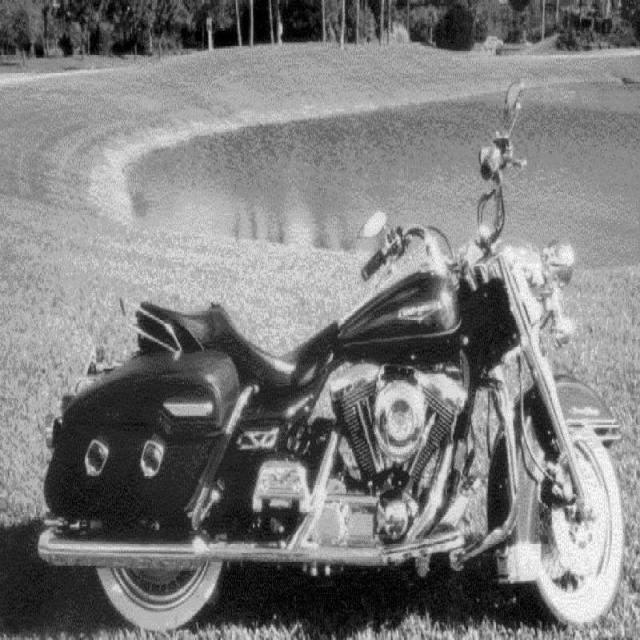Motorcycle: (39, 84, 626, 630)
